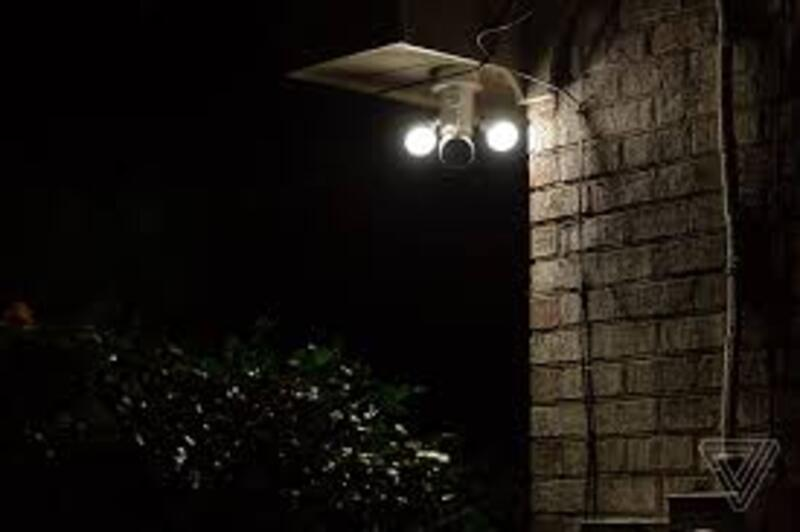bullet: (427, 114, 483, 179)
